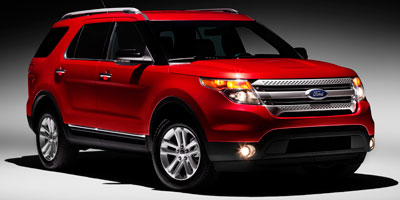Ford Explorer: (26, 6, 374, 191)
